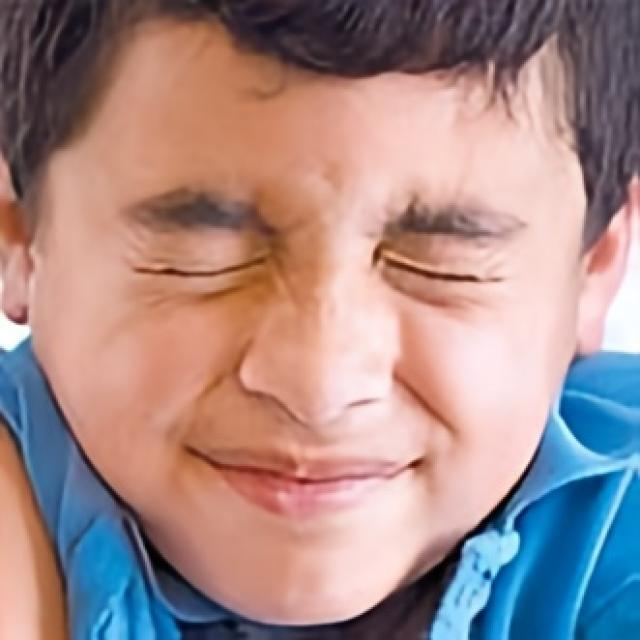happy: (32, 6, 580, 632)
